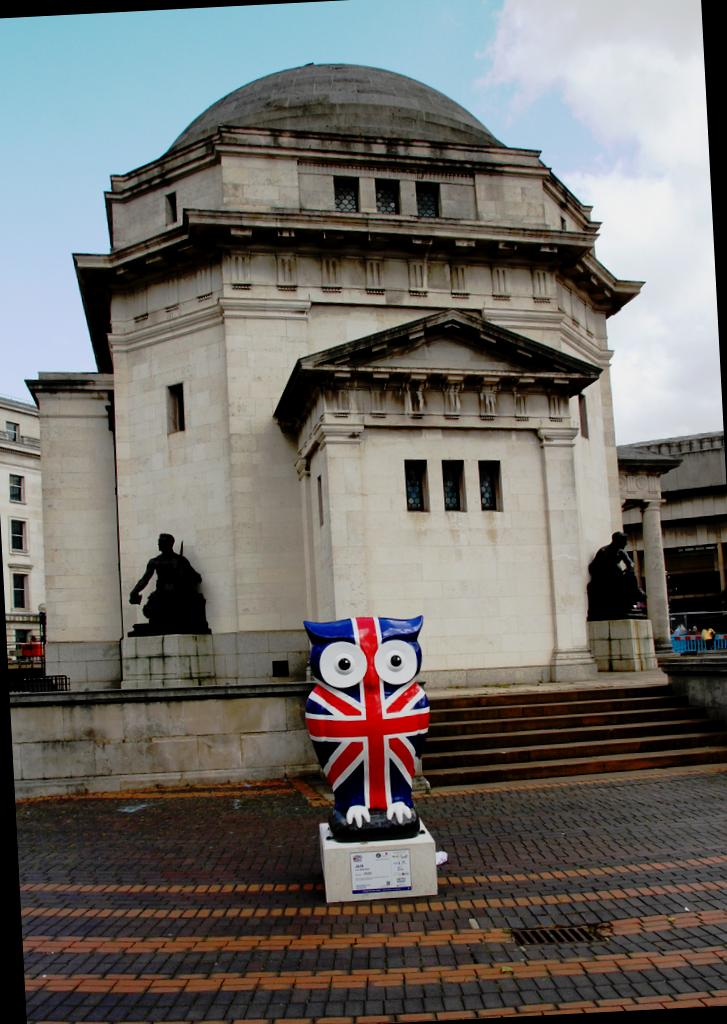Owl: (294, 612, 442, 836)
